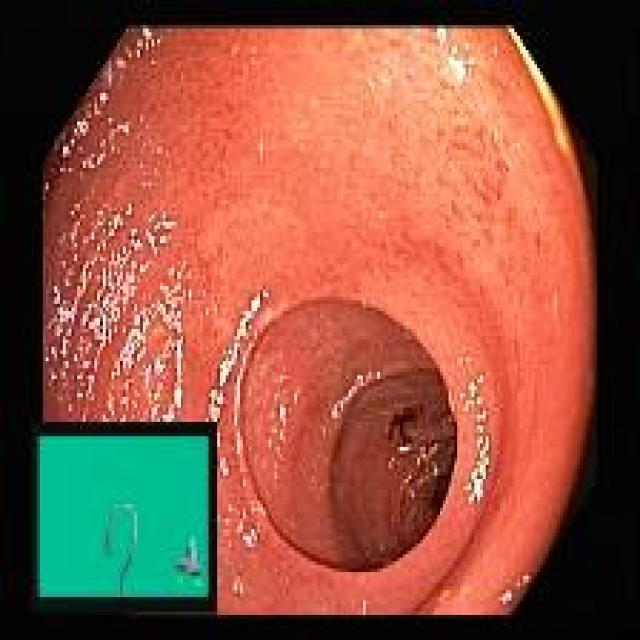ulcerative-colitis: (45, 28, 595, 615)
